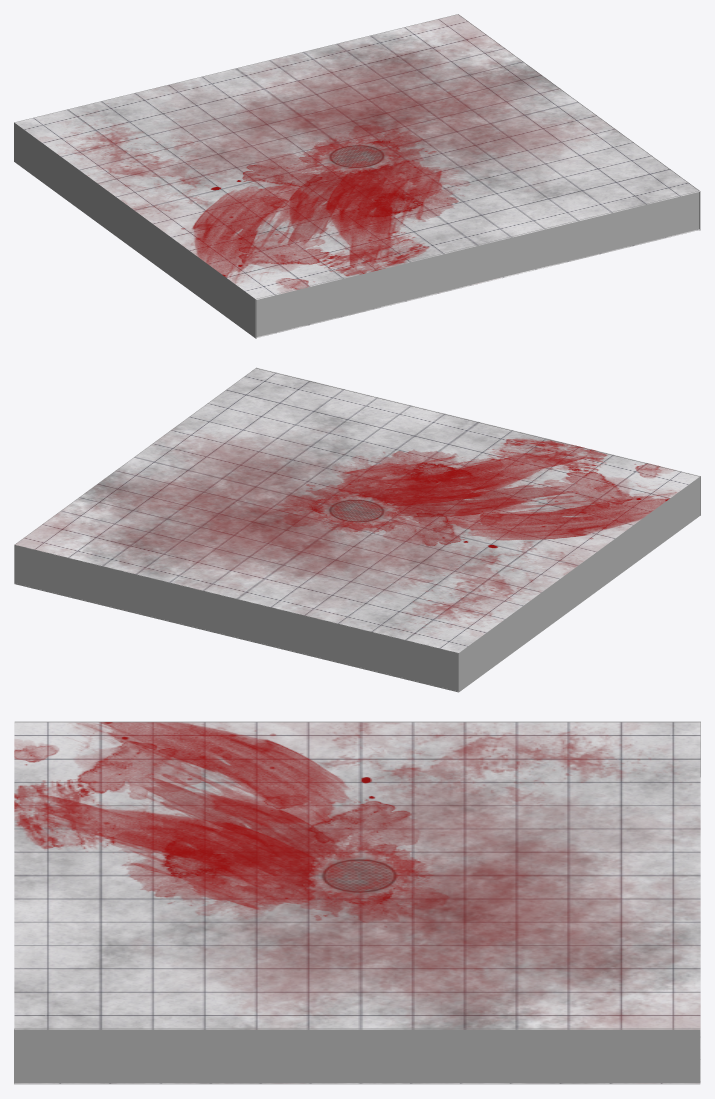
The model's file is FinalBattleBasement.fbx.
The picture shows the model from 3 angles, top to bottom: view 1: azimuth 30°, elevation 25°; view 2: azimuth 150°, elevation 25°; view 3: azimuth 270°, elevation 25°; orthographic projection. The views are drawn at different scales.
Visible parts, largest first — view 1: Morgue; view 2: Morgue; view 3: Morgue.
Boxes of the visible parts, <box> form: Morgue: <box>14,14,700,338</box>; Morgue: <box>14,367,700,692</box>; Morgue: <box>14,721,700,1084</box>.
Size of the model in its own units: 3171 by 268 by 2991.
